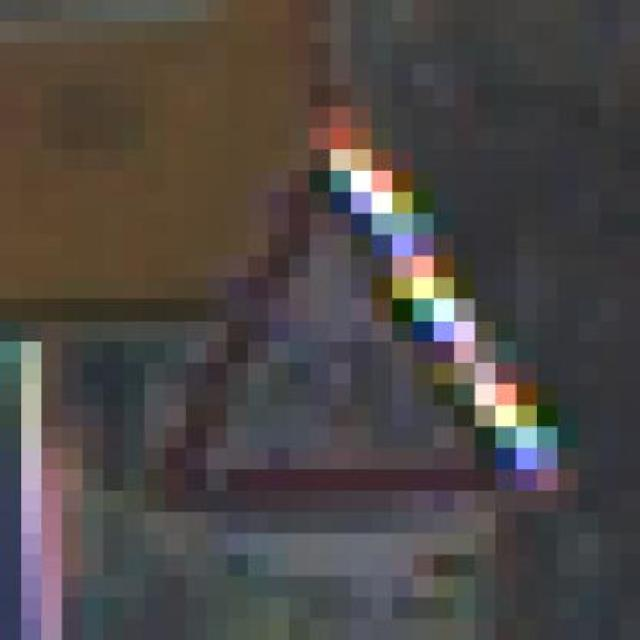CYCLE ROUTE AHEAD WARNING: (103, 106, 557, 534)
